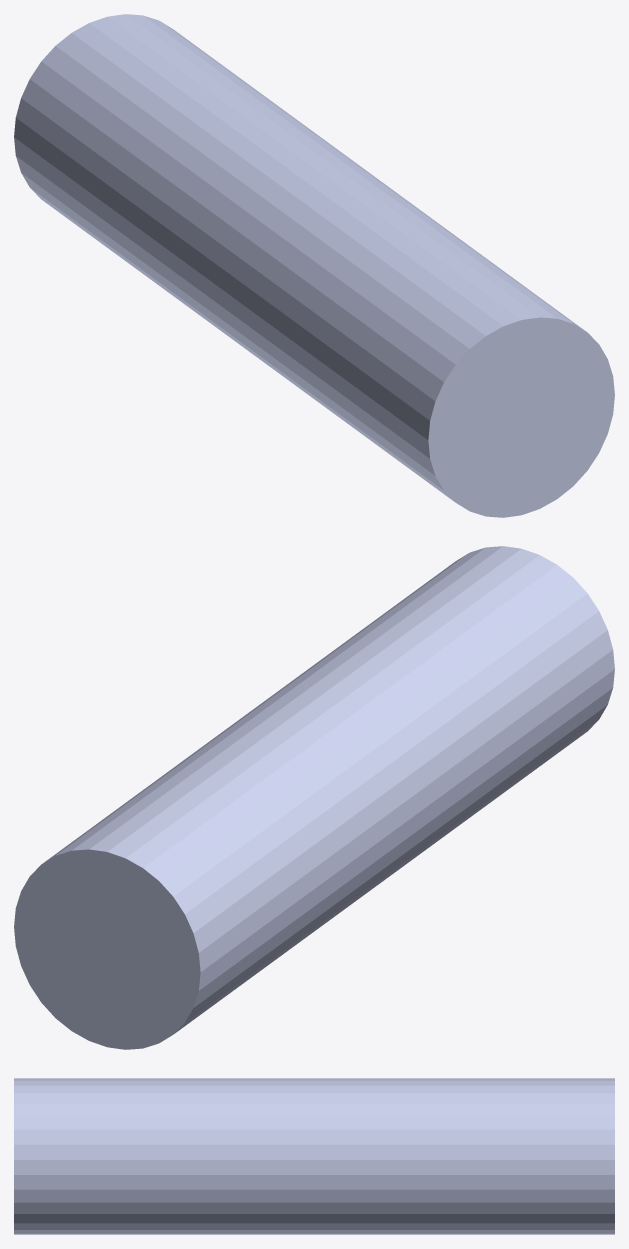
Rendered from tool_wrist_sca_shaft_link.obj.
3 renders of one model, top to bottom at view 1: azimuth 30°, elevation 25°; view 2: azimuth 150°, elevation 25°; view 3: azimuth 270°, elevation 25°, orthographic. The views are drawn at different scales.
Visible parts, largest first — view 1: ActorShape0_0-Mesh; view 2: ActorShape0_0-Mesh; view 3: ActorShape0_0-Mesh.
Part boxes in pixels (x1=…): ActorShape0_0-Mesh: x1=14, y1=14, x2=614, y2=517; ActorShape0_0-Mesh: x1=14, y1=546, x2=614, y2=1049; ActorShape0_0-Mesh: x1=14, y1=1078, x2=614, y2=1234.
Bounding box in the file's own units: 0.0013 × 0.0013 × 0.005.
